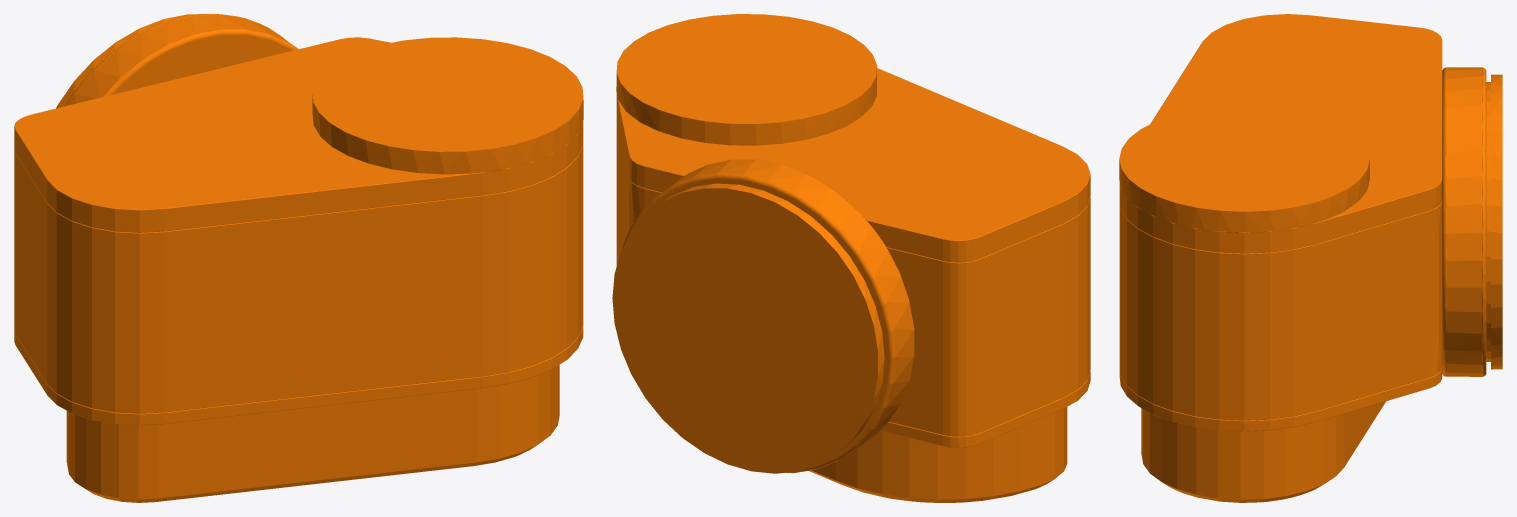
3 renders of one model, left to right at view 1: azimuth 30°, elevation 25°; view 2: azimuth 150°, elevation 25°; view 3: azimuth 270°, elevation 25°, orthographic. The views are drawn at different scales.
Parts seen in each view (by area): view 1: link1; view 2: link1; view 3: link1.
Boxes of the visible parts, left/top/right/bottom form: link1: left=14, top=14, right=583, bottom=502; link1: left=612, top=14, right=1090, bottom=502; link1: left=1119, top=14, right=1502, bottom=502.
Bounding box in the file's own units: 0.3509 × 0.2434 × 0.26.
